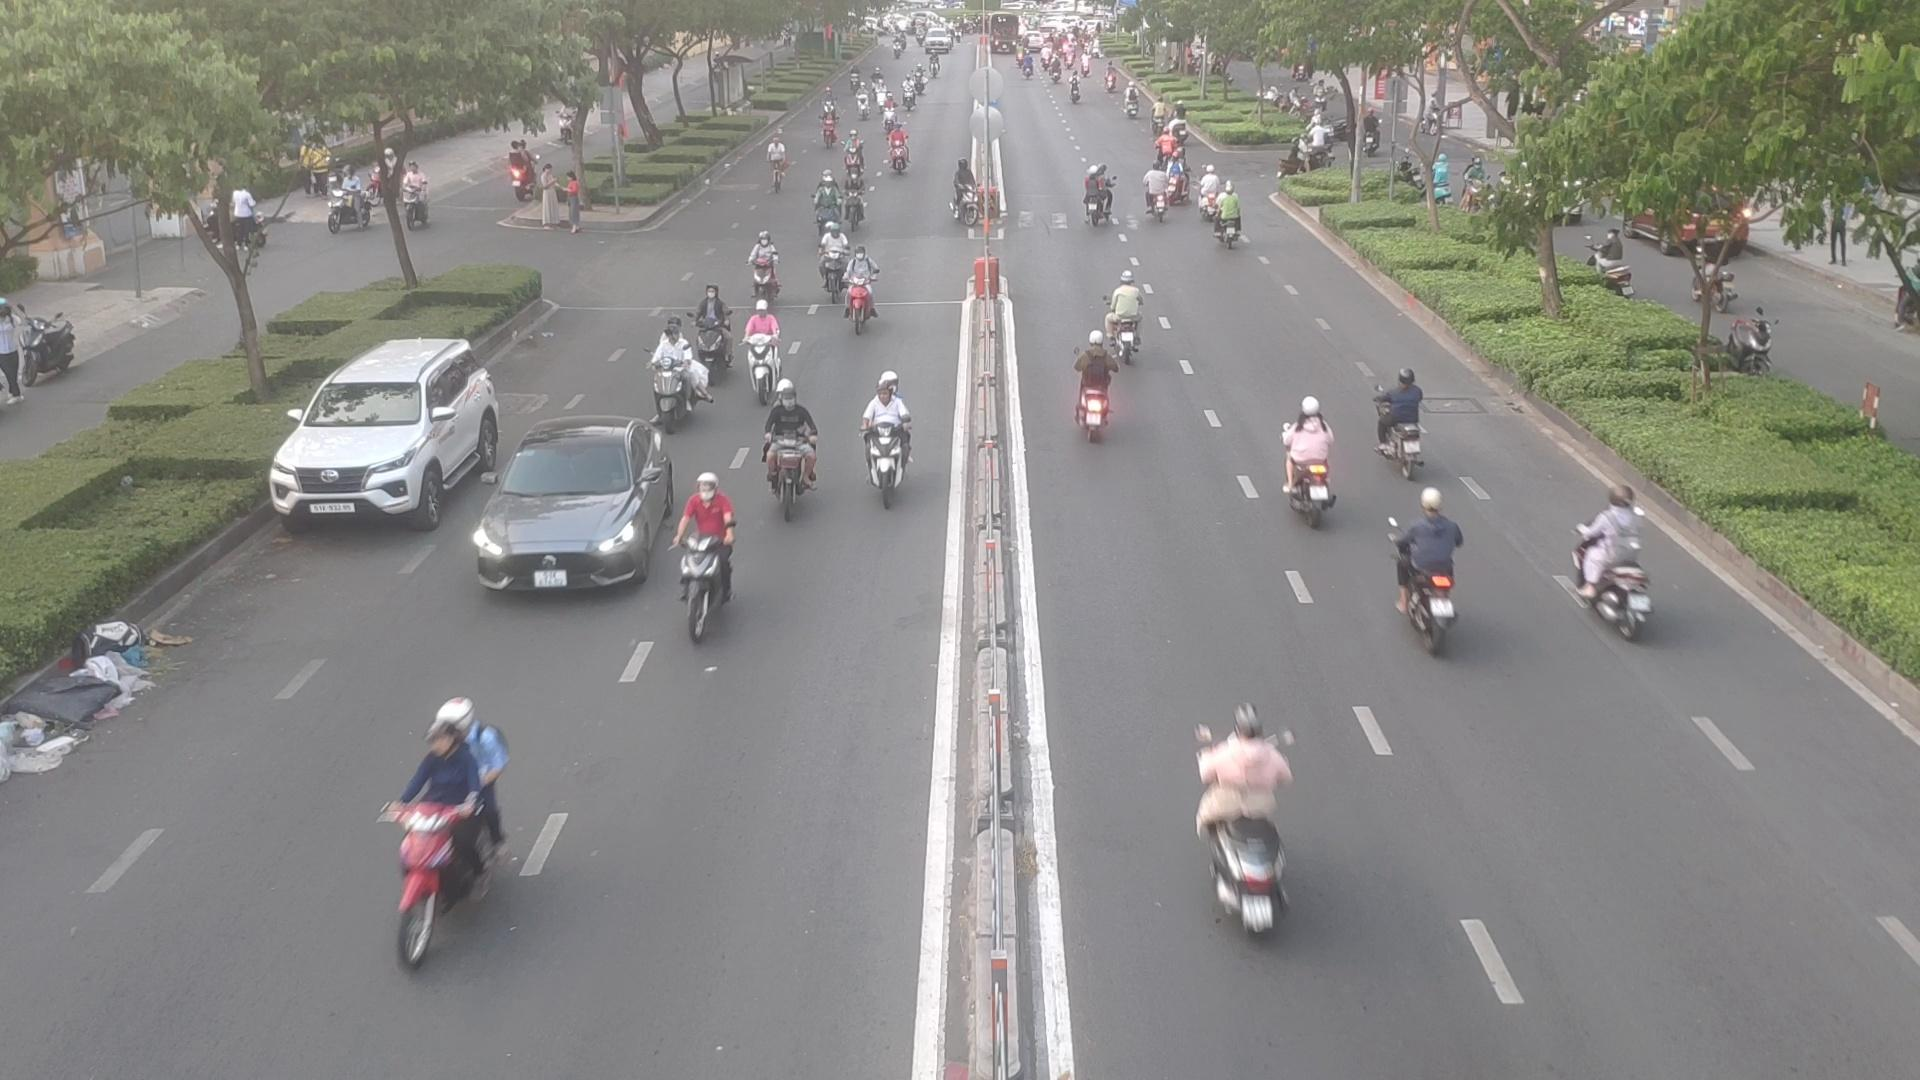car: (272, 339, 516, 531), (465, 426, 679, 597)
motorbike: (359, 698, 524, 965), (1197, 705, 1311, 924), (1580, 496, 1668, 640), (1386, 501, 1466, 646), (679, 480, 736, 657), (855, 375, 918, 502), (1271, 409, 1336, 524), (762, 388, 825, 504), (1064, 332, 1126, 440), (646, 328, 711, 425), (1375, 373, 1429, 473), (744, 298, 789, 407), (1101, 277, 1163, 356), (835, 243, 880, 339), (688, 293, 740, 375), (812, 178, 861, 240), (1211, 186, 1254, 251), (742, 233, 785, 298), (1076, 165, 1116, 228), (949, 158, 981, 228), (1145, 161, 1178, 222), (841, 167, 870, 220), (824, 218, 841, 302), (884, 129, 914, 174), (1193, 166, 1217, 219), (819, 111, 843, 154), (840, 129, 860, 181), (1166, 152, 1185, 202)
